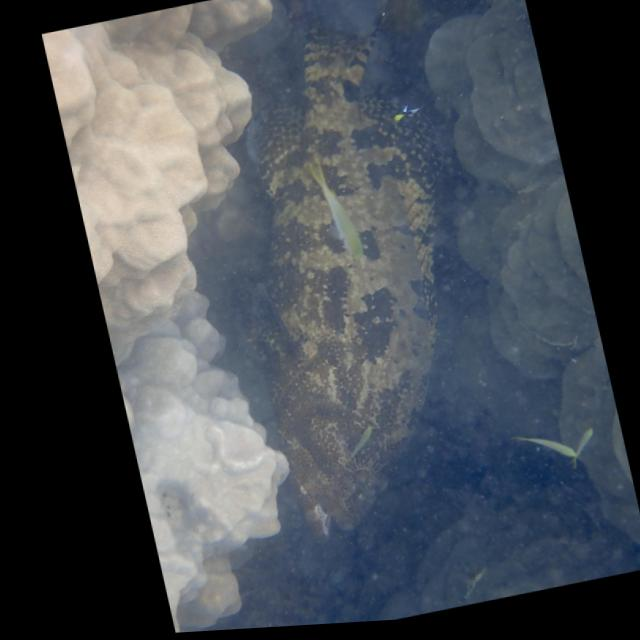Groupers: (182, 2, 514, 556)
